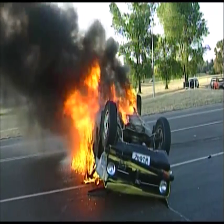fire_h: (62, 56, 106, 176), (117, 84, 139, 115)
fire_l: (84, 171, 99, 185), (109, 83, 118, 102), (121, 111, 129, 124)
